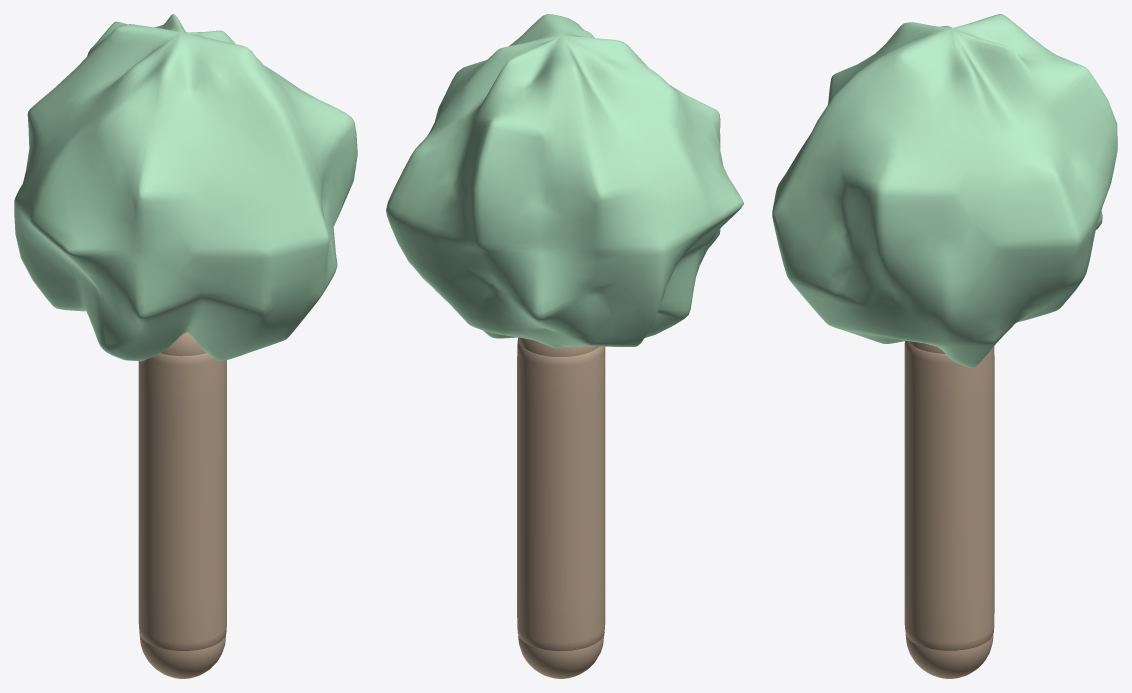
The model's file is PROP_TreeSmall_v1.glb.
3 views of the same model, side by side, from view 1: azimuth 30°, elevation 25°; view 2: azimuth 150°, elevation 25°; view 3: azimuth 270°, elevation 25° (orthographic).
Visible parts, largest first — view 1: PROP_TreeSmall_v1; view 2: PROP_TreeSmall_v1; view 3: PROP_TreeSmall_v1.
Boxes of the visible parts, bbox=[...] form: PROP_TreeSmall_v1: bbox=[14, 14, 357, 678]; PROP_TreeSmall_v1: bbox=[386, 14, 743, 678]; PROP_TreeSmall_v1: bbox=[772, 14, 1117, 678].
Bounding box in the file's own units: 1.03 × 2.18 × 1.06.
